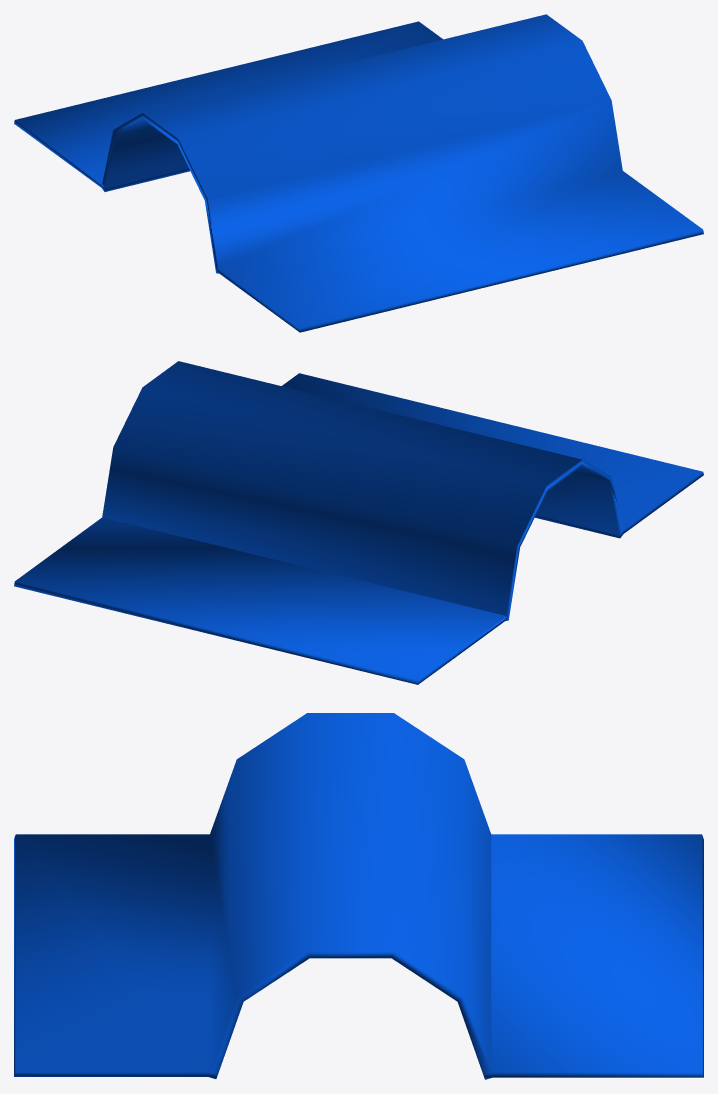
File: CustomBlanket.fbx
The picture shows the model from 3 angles, top to bottom: view 1: azimuth 30°, elevation 25°; view 2: azimuth 150°, elevation 25°; view 3: azimuth 270°, elevation 25°; orthographic projection. The views are drawn at different scales.
Parts seen in each view (by area): view 1: Circle; view 2: Circle; view 3: Circle.
Part boxes in pixels (x1,y1,x2,y2): Circle: (14,14,703,332); Circle: (14,361,703,684); Circle: (14,713,703,1079).
Size of the model in its own units: 400 by 101 by 490.
